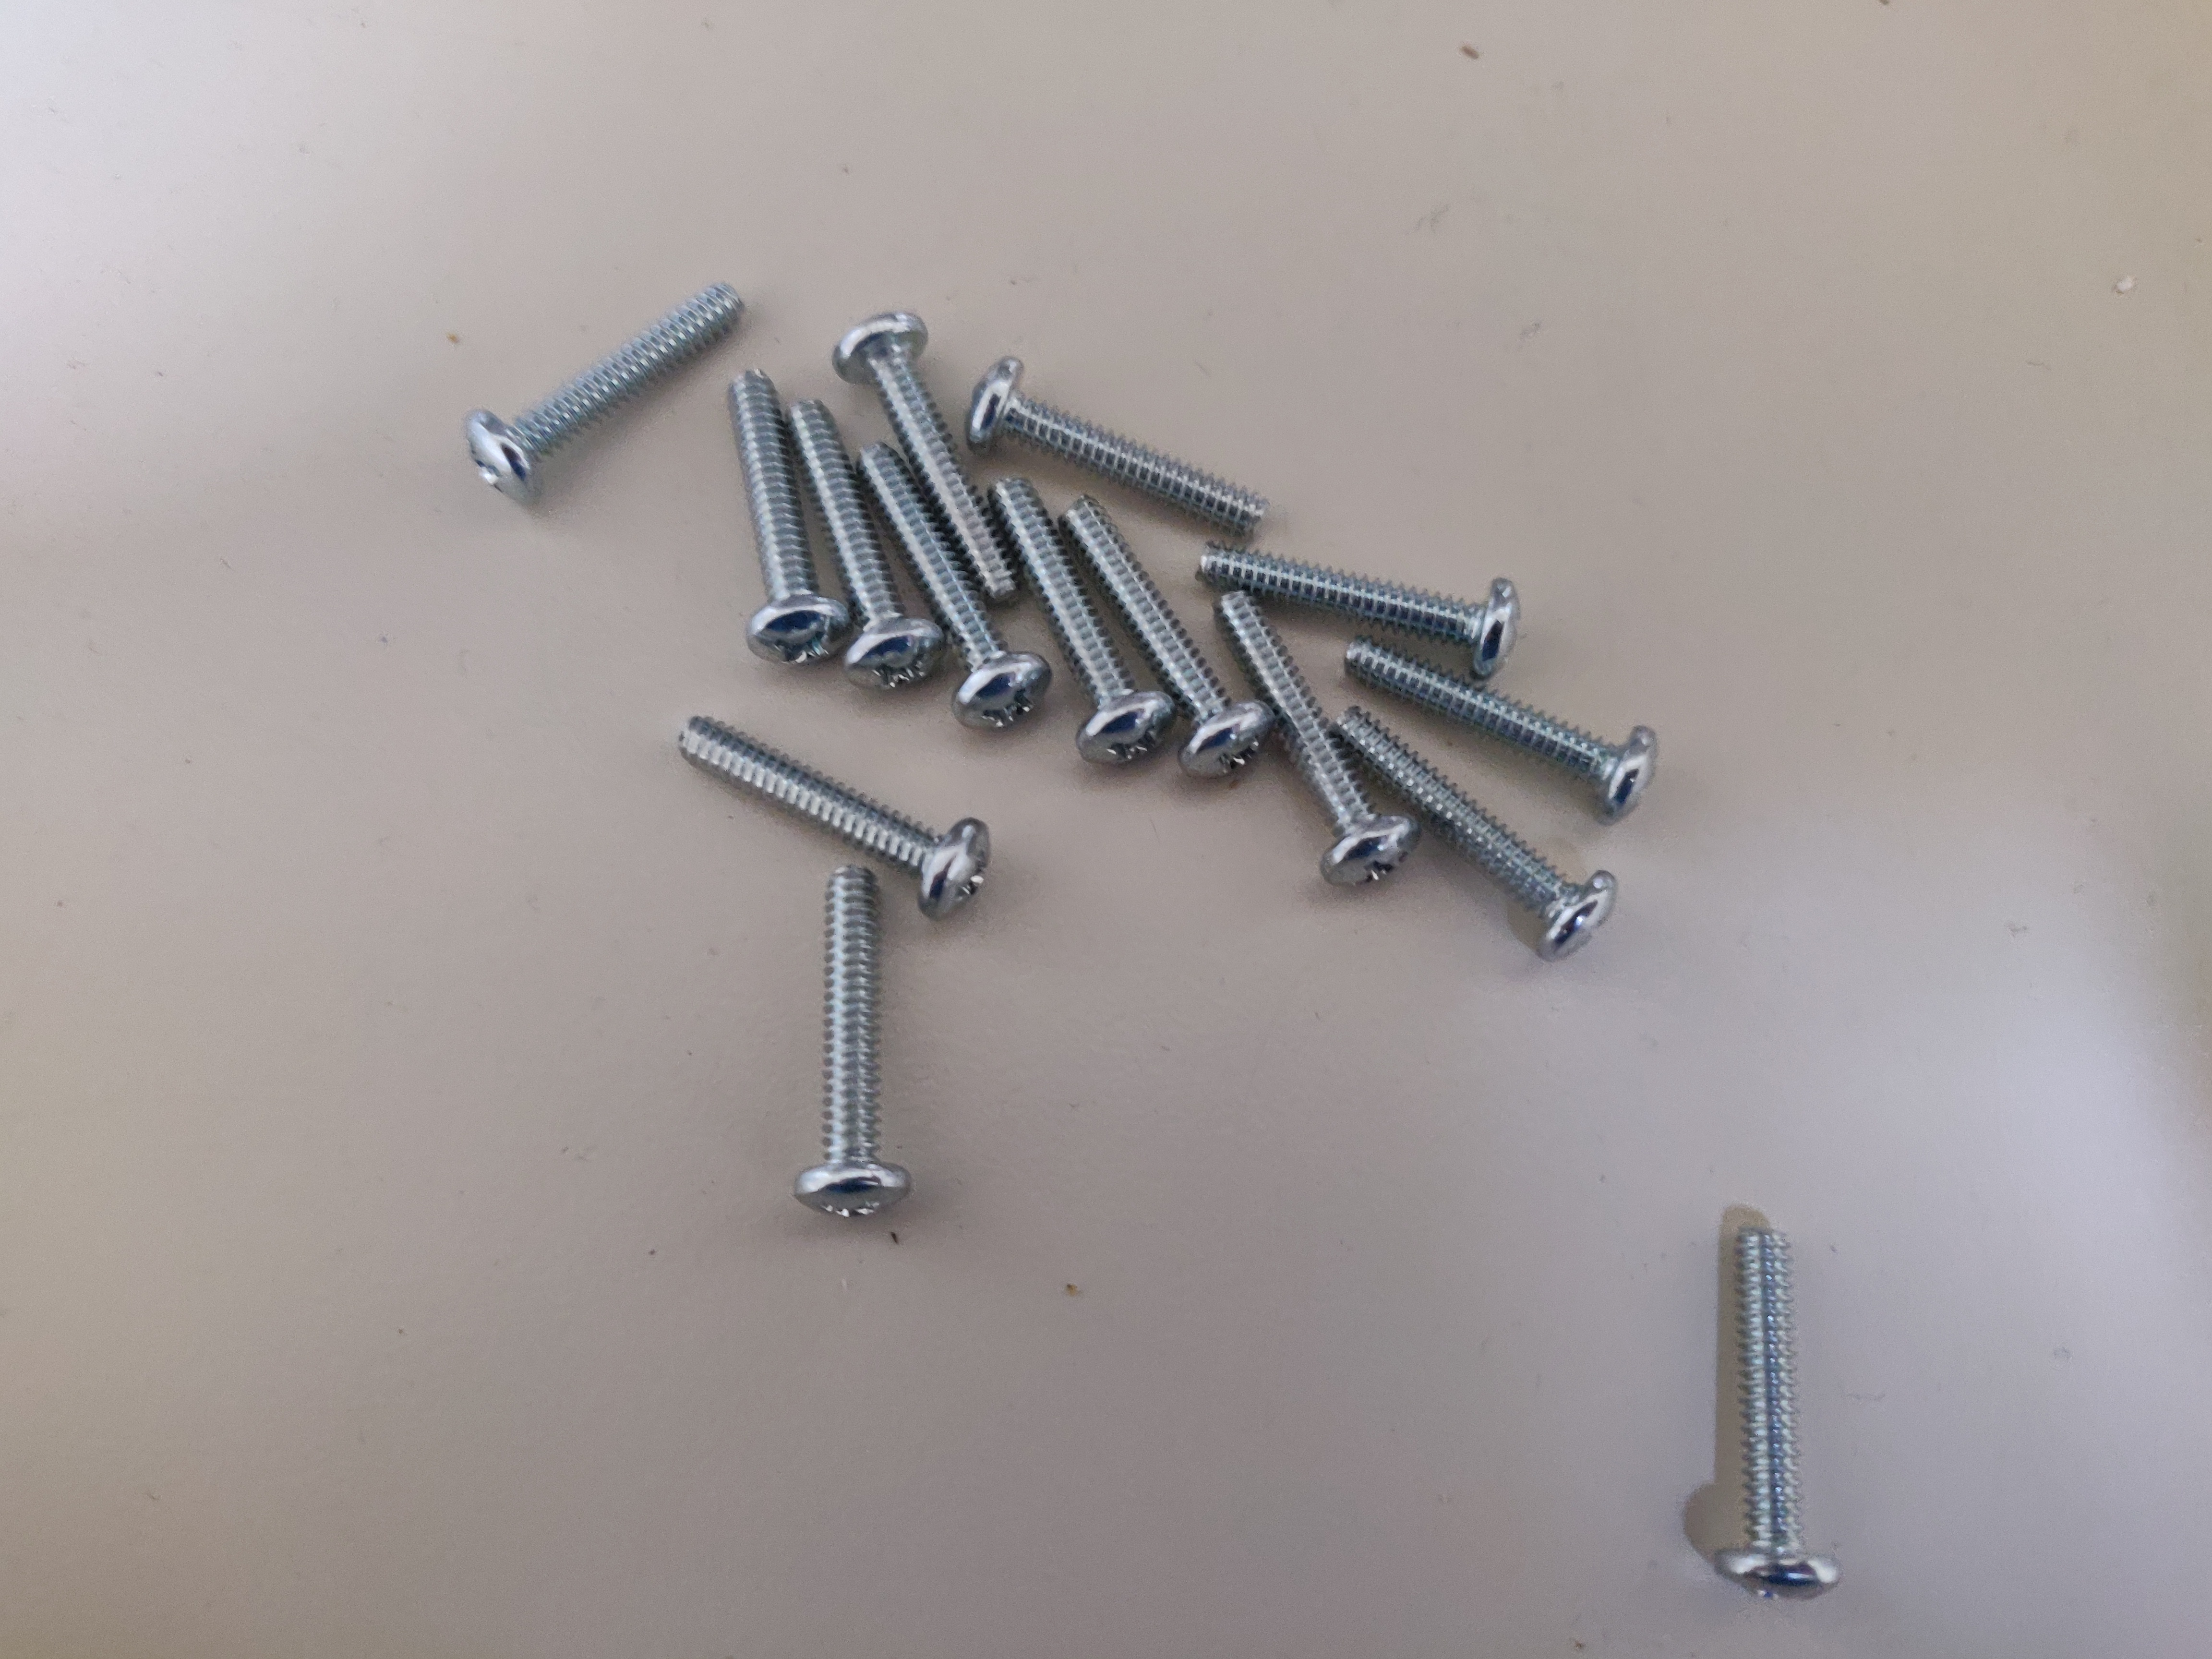longscrew: (1336, 697, 1620, 964), (1332, 624, 1653, 814), (462, 274, 751, 483), (678, 714, 988, 906), (982, 349, 1280, 540), (859, 441, 1049, 732), (1214, 592, 1414, 868), (1071, 502, 1271, 775), (991, 469, 1167, 775), (843, 289, 1019, 594), (1193, 521, 1531, 671), (780, 852, 906, 1237), (1721, 1225, 1836, 1600), (794, 392, 935, 687), (702, 366, 836, 666)
